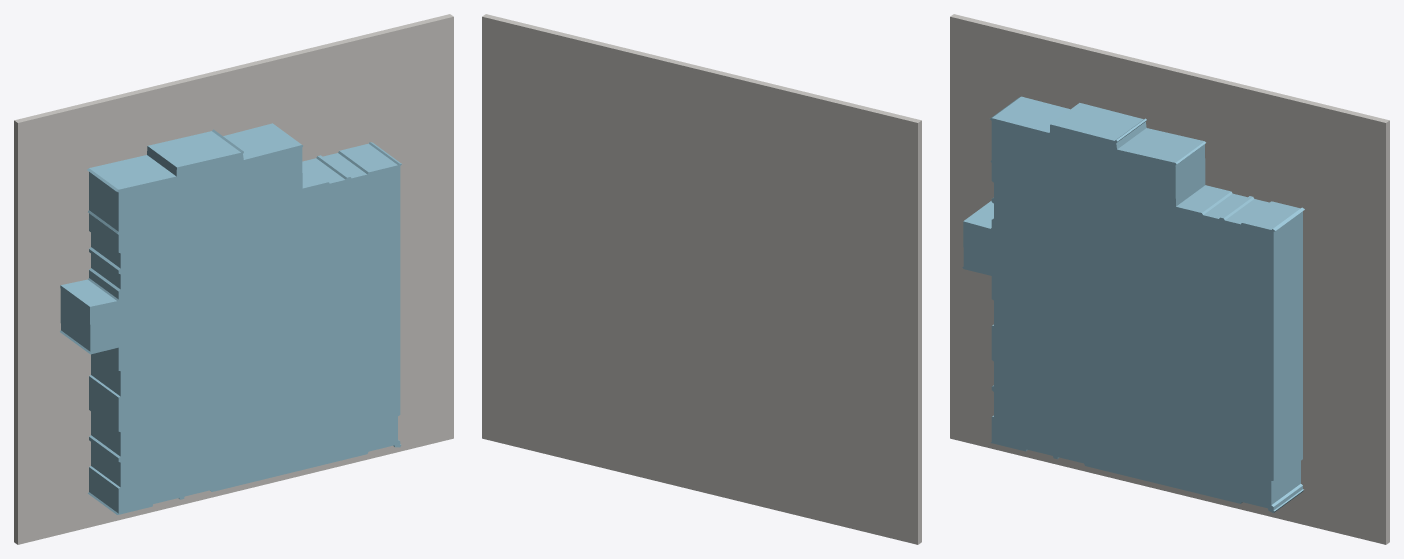
3 views of the same model, side by side, from view 1: azimuth 30°, elevation 25°; view 2: azimuth 150°, elevation 25°; view 3: azimuth 330°, elevation 25° (orthographic).
Parts seen in each view (by area): view 1: world; view 2: world; view 3: world.
Boxes of the visible parts, <box> form: world: <box>14,14,453,544</box>; world: <box>482,14,921,544</box>; world: <box>950,14,1389,544</box>.
Size of the model in its own units: 10.23 by 9.46 by 1.35.
